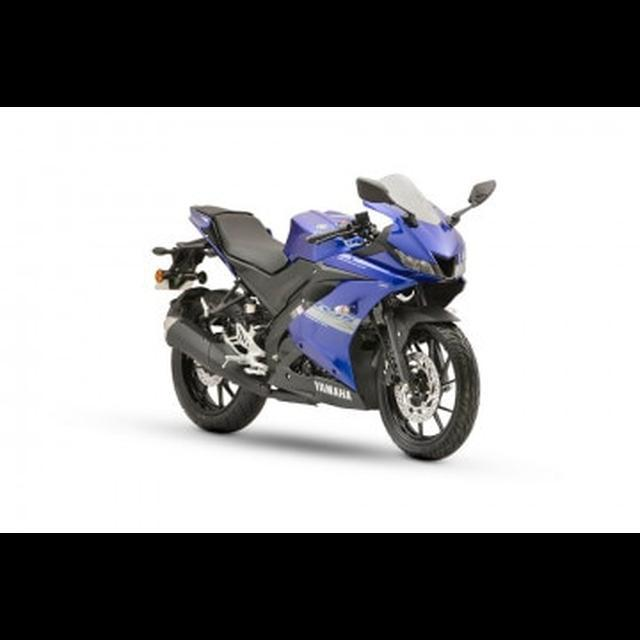motorcycle: (147, 163, 500, 469)
